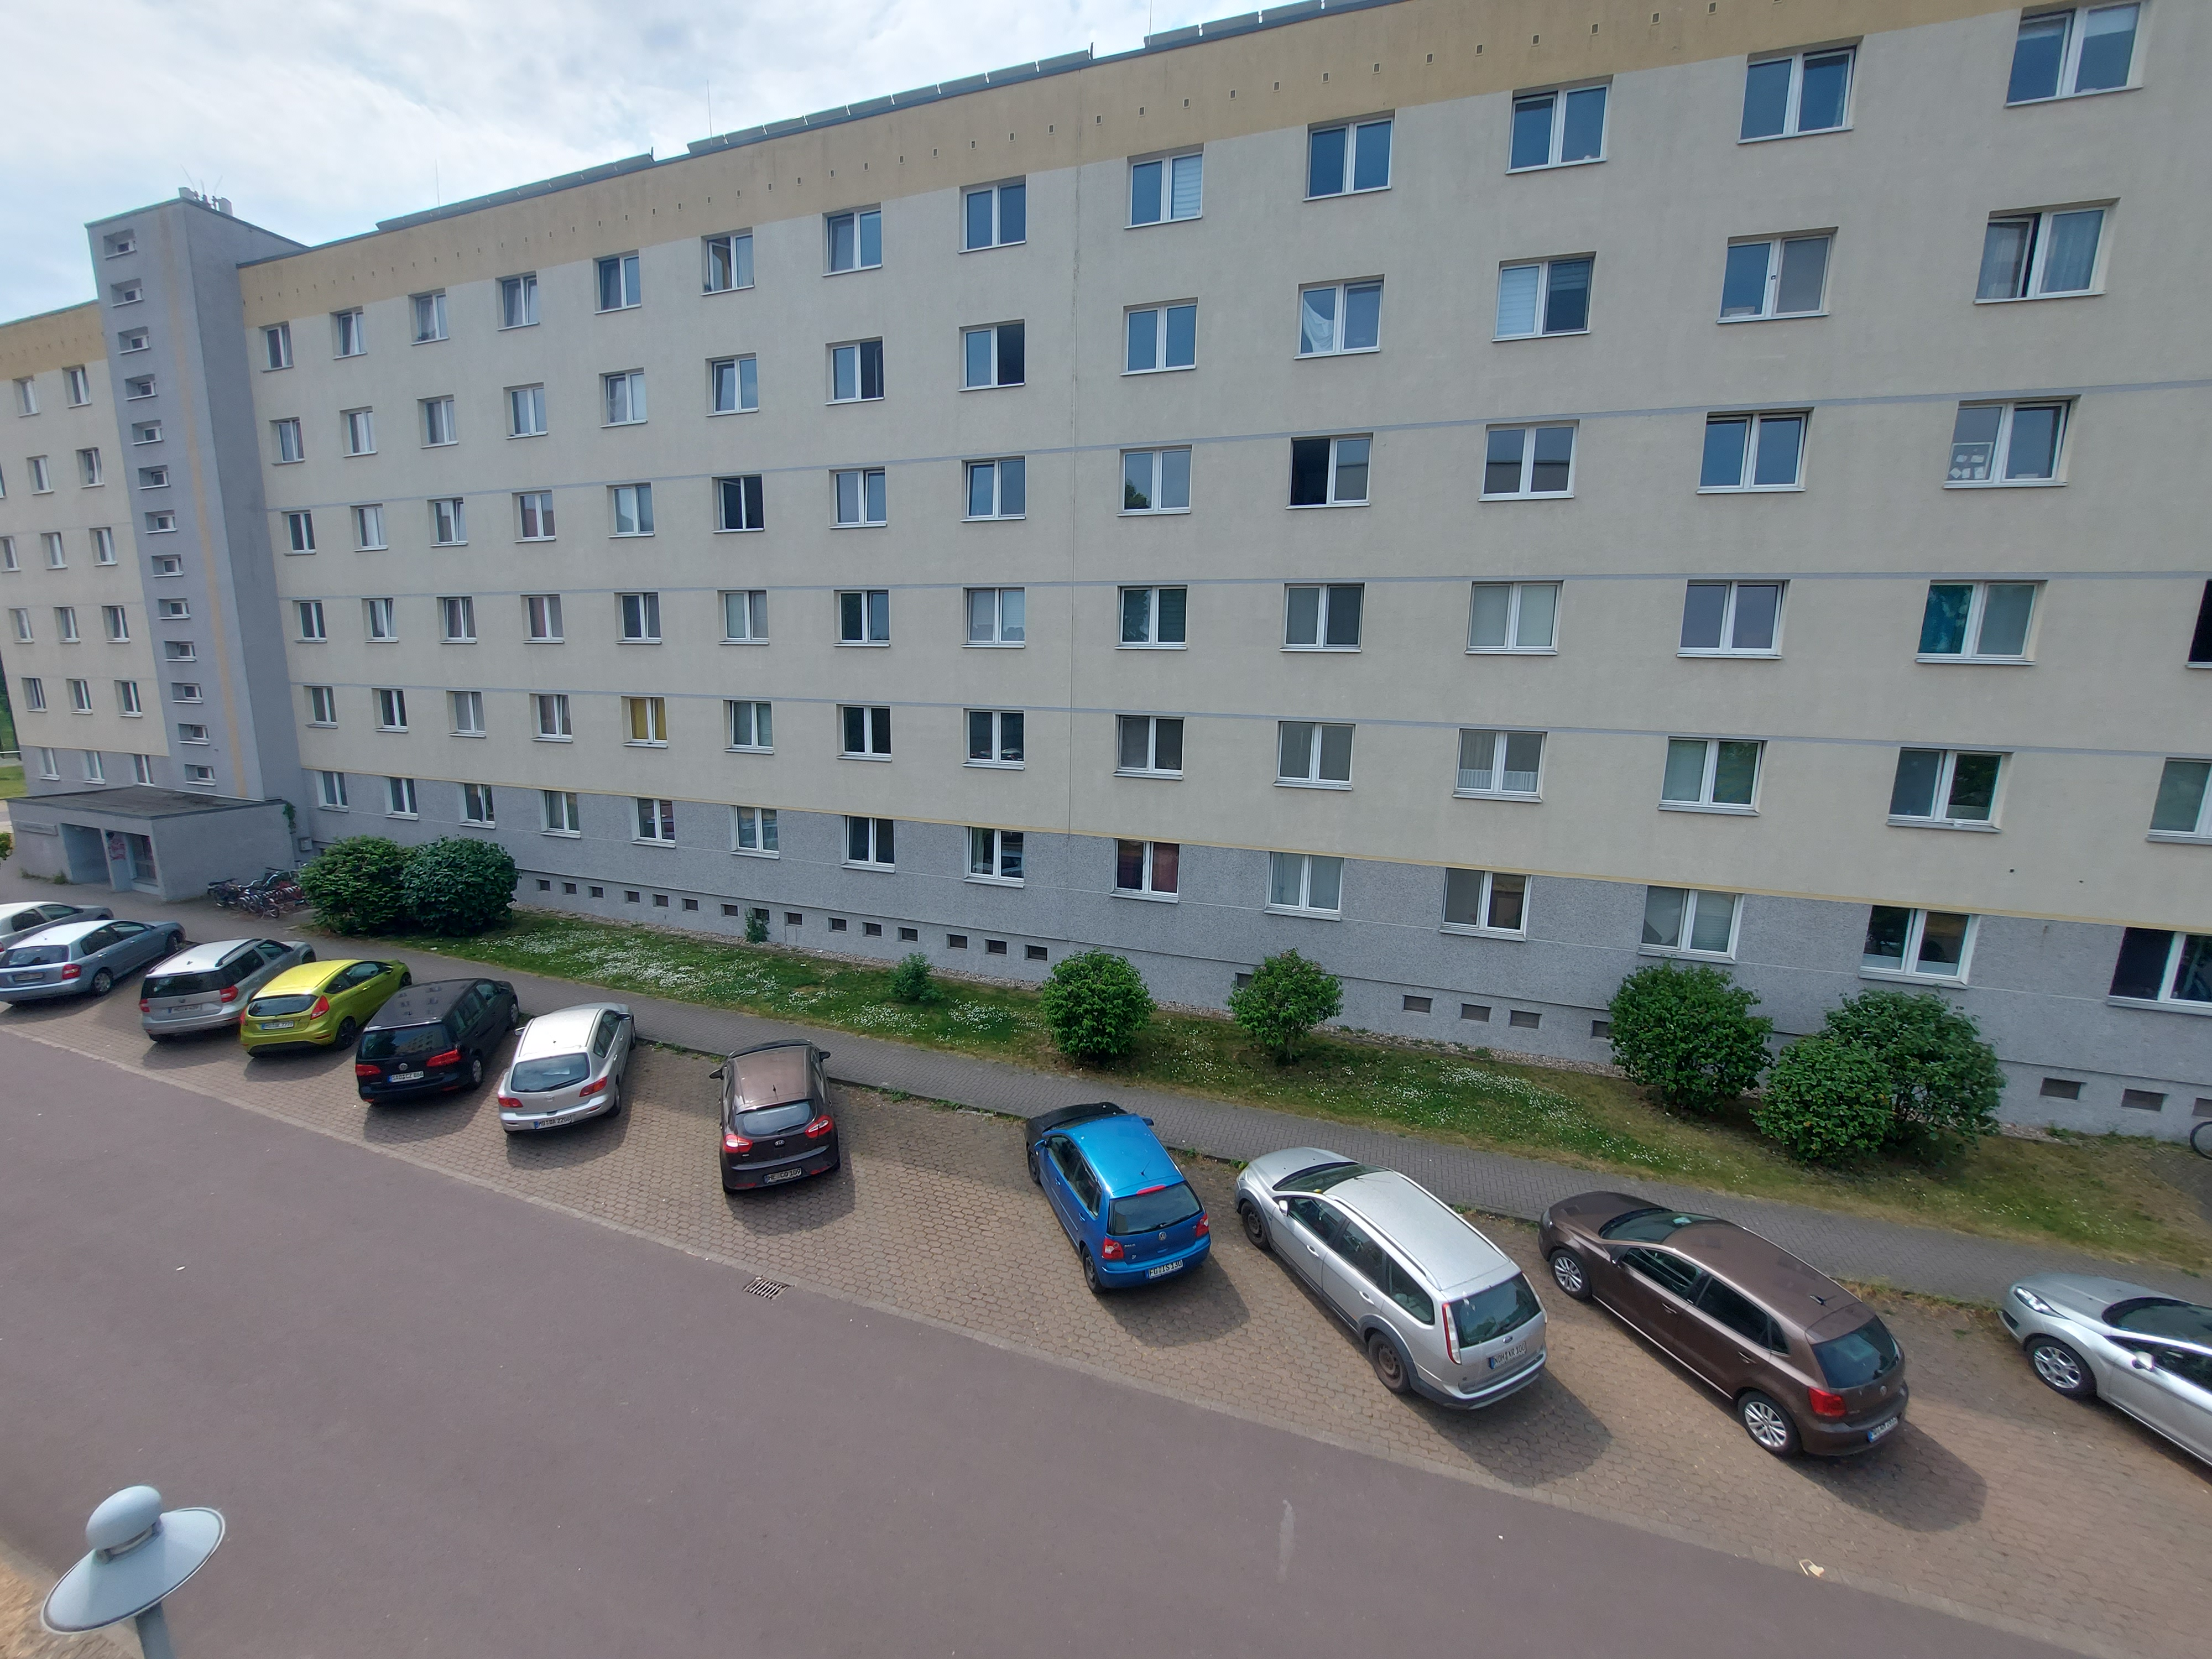spot: (1958, 1375, 2097, 1514), (1076, 1150, 1216, 1290), (589, 1051, 728, 1190), (486, 1009, 625, 1148), (0, 910, 139, 1049), (1322, 1180, 1460, 1319), (707, 1063, 845, 1202), (345, 986, 484, 1124), (226, 958, 364, 1098), (1670, 1262, 1808, 1399), (867, 1098, 1005, 1236), (111, 931, 249, 1068)
